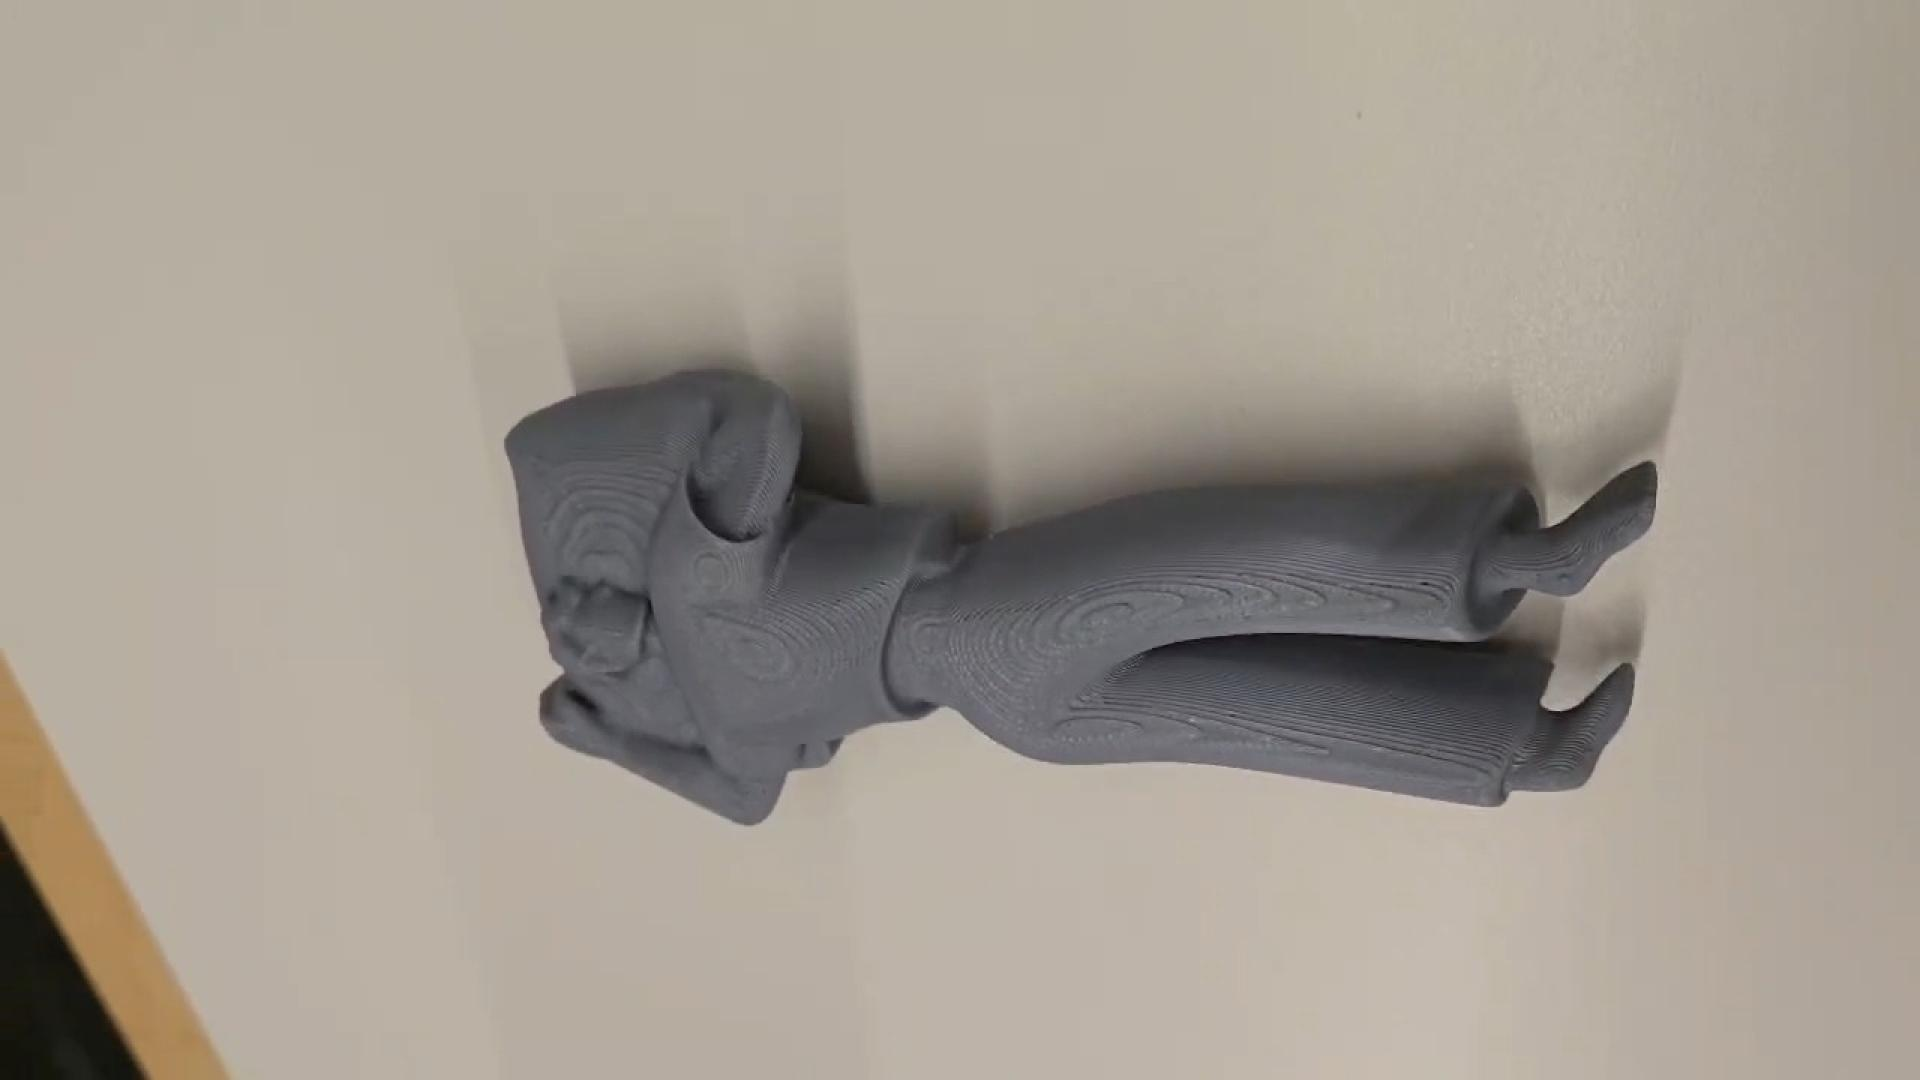Bad-style: (495, 367, 1668, 829)
